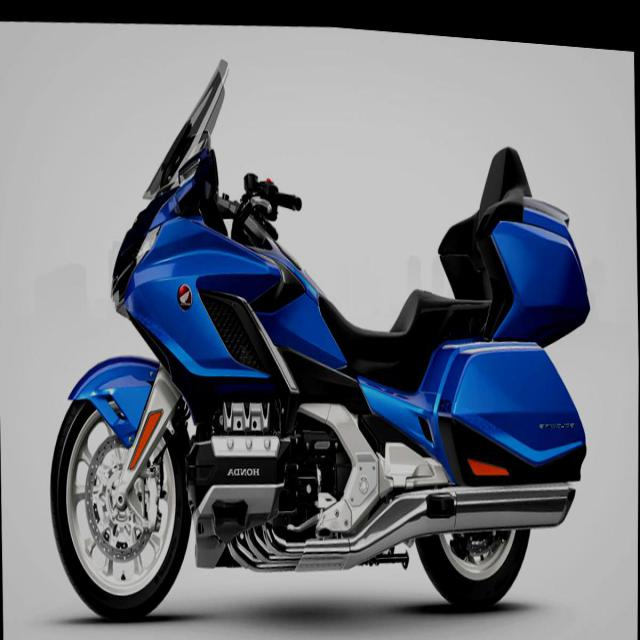Gold Wing: (41, 14, 600, 639)
